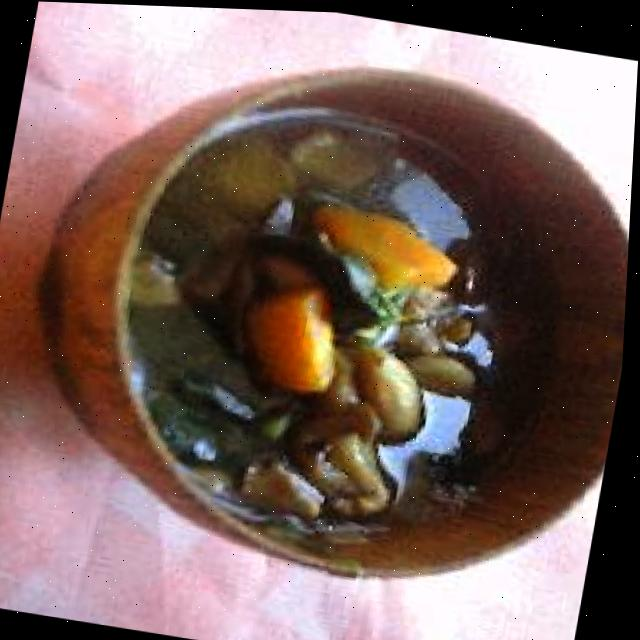蔬菜料理: (0, 0, 640, 638)
